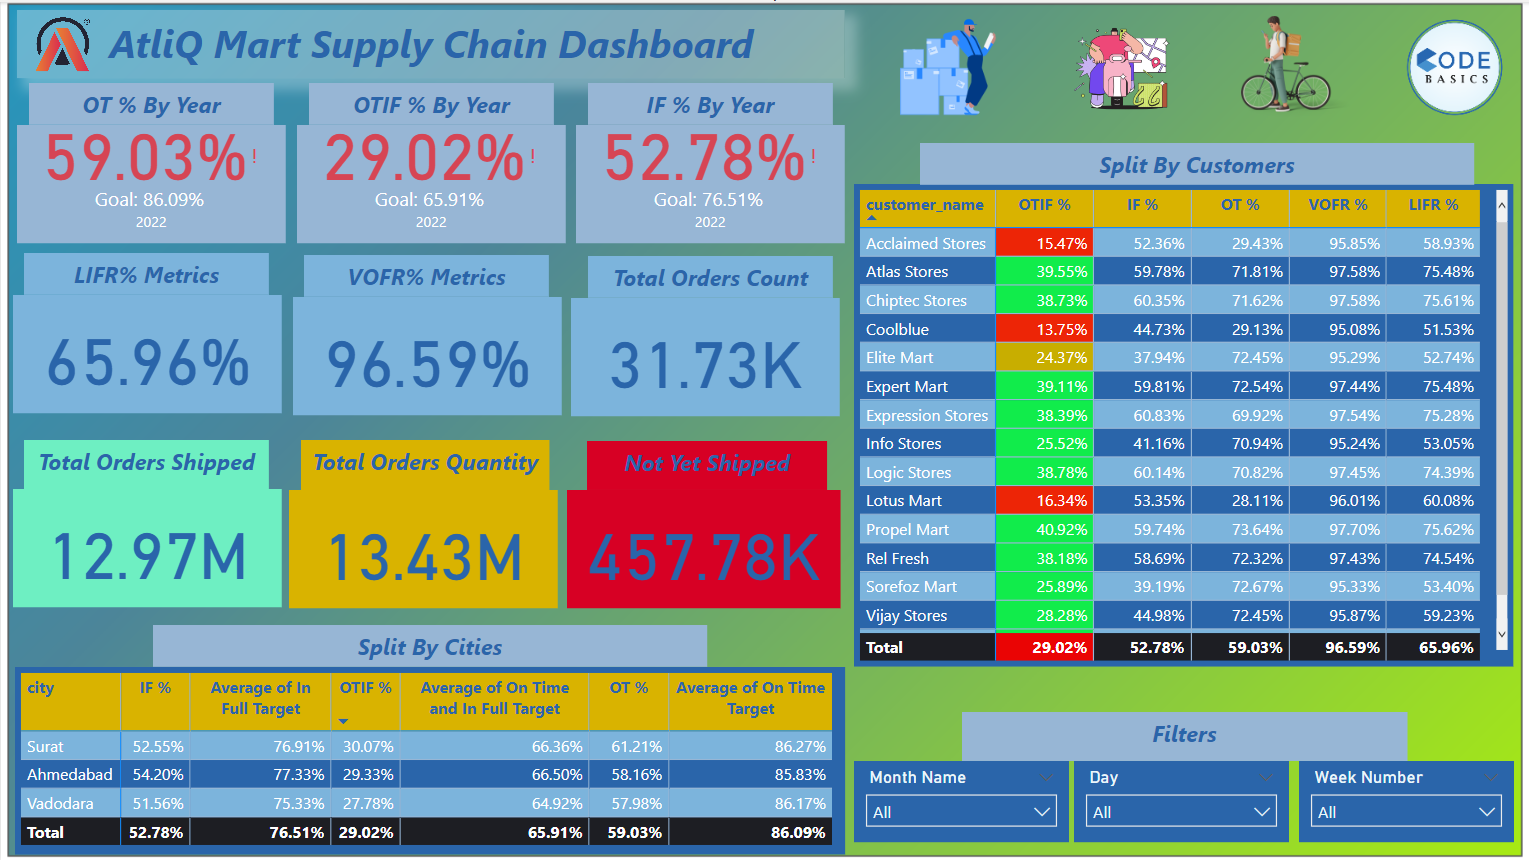

The dashboard page shown, as its layout file describes it:
{"tool":"powerbi","page":{"name":"Main Page","canvas":[1280,720],"ordinal":0},"visuals":[{"type":"textbox","box":[13.6,6.8,693.5,57.4],"z":0},{"type":"image","box":[24.3,6.8,56.4,57.4],"z":1000},{"type":"kpi","fields":{"TrendLine":["dim_date.Year"],"Indicator":["Measures Table.OT %"],"Goal":["Measures Table.Average of On Time Target"]},"box":[13.6,103.1,224.7,99.2],"z":2000},{"type":"textbox","box":[23.3,68.1,205.2,35],"z":3000},{"type":"textbox","box":[257.8,68.1,205.2,35],"z":4000},{"type":"kpi","fields":{"TrendLine":["dim_date.Year"],"Goal":["Measures Table.Average of On Time and In Full Target"],"Indicator":["Measures Table.OTIF %"]},"box":[248,103.1,224.7,99.2],"z":5000},{"type":"textbox","box":[491.2,68.1,205.2,35],"z":6000},{"type":"kpi","fields":{"TrendLine":["dim_date.Year"],"Goal":["Measures Table.Average of In Full Target"],"Indicator":["Measures Table.IF %"]},"box":[481.5,103.1,224.7,99.2],"z":7000},{"type":"card","fields":{"Values":["Measures Table.LIFR %"]},"box":[9.7,245.1,224.7,99],"z":8000},{"type":"textbox","box":[19.5,210.1,205.2,35],"z":9000},{"type":"card","fields":{"Values":["Measures Table.VOFR %"]},"box":[244.1,247.1,224.7,99],"z":10000},{"type":"textbox","box":[253.9,212,205.2,35],"z":11000},{"type":"card","fields":{"Values":["Measures Table.Total Number of Orders"]},"box":[477.6,248,224.7,99],"z":12000},{"type":"textbox","box":[491.2,213,205.2,35],"z":13000},{"type":"card","fields":{"Values":["Measures Table.Total orders quantity shipped"]},"box":[9.7,407.5,224.7,99],"z":14000},{"type":"textbox","box":[19.5,366.7,205.2,41.8],"z":15000},{"type":"textbox","box":[250.9,366.7,208.1,41.8],"z":16000},{"type":"card","fields":{"Values":["Measures Table.Total Orders quantity"]},"box":[241.5,408.8,224.7,99],"z":17000},{"type":"textbox","box":[490.2,367.7,201.3,40.9],"z":18000},{"type":"card","fields":{"Values":["Measures Table.Not yet Shipped"]},"box":[473.7,408.5,228.6,99],"z":19000},{"type":"image","box":[1167.2,6.8,99.2,96.3],"z":20000},{"type":"slicer","fields":{"Values":["dim_date.Month"]},"box":[713.9,635.1,180,68.1],"z":21000},{"type":"pivotTable","fields":{"Rows":["dim_customers.city"],"Values":["Measures Table.IF %","Measures Table.Average of In Full Target","Measures Table.OTIF %","Measures Table.Average of On Time and In Full Target","Measures Table.OT %","Measures Table.Average of On Time Target"]},"box":[11.7,556.4,695.4,156.6],"z":22000},{"type":"textbox","box":[127.4,521.3,464,35],"z":23000},{"type":"textbox","box":[804.4,594.3,372.5,40.9],"z":24000},{"type":"slicer","fields":{"Values":["dim_date.Day"]},"box":[898.7,635.1,179.9,68.1],"z":25000},{"type":"slicer","fields":{"Values":["dim_date.week_no"]},"box":[1086.4,635.1,179.9,68.1],"z":26000},{"type":"pivotTable","fields":{"Values":["Measures Table.OTIF %","Measures Table.IF %","Measures Table.OT %","Measures Table.VOFR %","Measures Table.LIFR %"],"Rows":["dim_customers.customer_name"]},"box":[713.9,152.7,552.5,403.6],"z":27000},{"type":"textbox","box":[769.4,117.7,464,35],"z":28000},{"type":"image","box":[1001.8,6.8,165.3,96.3],"z":29000},{"type":"image","box":[873.4,6.8,128.4,96.3],"z":30000},{"type":"image","box":[713.6,6.9,160.3,96],"z":31000}]}

Visuals, with their boxes in screenshot pixels (x1, y1, x2, y2), scaled from the page's 1280x720 canvas onto the 1529x860 screenshot:
textbox: 16 8 845 77
image: 29 8 96 77
kpi - dim_date.Year x Measures Table.OT %: 16 123 285 242
textbox: 28 81 273 123
textbox: 308 81 553 123
kpi - dim_date.Year x Measures Table.Average of On Time and In Full Target: 296 123 565 242
textbox: 587 81 832 123
kpi - dim_date.Year x Measures Table.Average of In Full Target: 575 123 844 242
card - Measures Table.LIFR %: 12 293 280 411
textbox: 23 251 268 293
card - Measures Table.VOFR %: 292 295 560 413
textbox: 303 253 548 295
card - Measures Table.Total Number of Orders: 571 296 839 414
textbox: 587 254 832 296
card - Measures Table.Total orders quantity shipped: 12 487 280 605
textbox: 23 438 268 488
textbox: 300 438 548 488
card - Measures Table.Total Orders quantity: 288 488 557 607
textbox: 586 439 826 488
card - Measures Table.Not yet Shipped: 566 488 839 606
image: 1394 8 1513 123
slicer - dim_date.Month: 853 759 1068 840
pivotTable - dim_customers.city x Measures Table.IF %: 14 665 845 852
textbox: 152 623 706 664
textbox: 961 710 1406 759
slicer - dim_date.Day: 1074 759 1288 840
slicer - dim_date.week_no: 1298 759 1513 840
pivotTable - Measures Table.OTIF % x Measures Table.IF %: 853 182 1513 664
textbox: 919 141 1473 182
image: 1197 8 1394 123
image: 1043 8 1197 123
image: 852 8 1044 123
